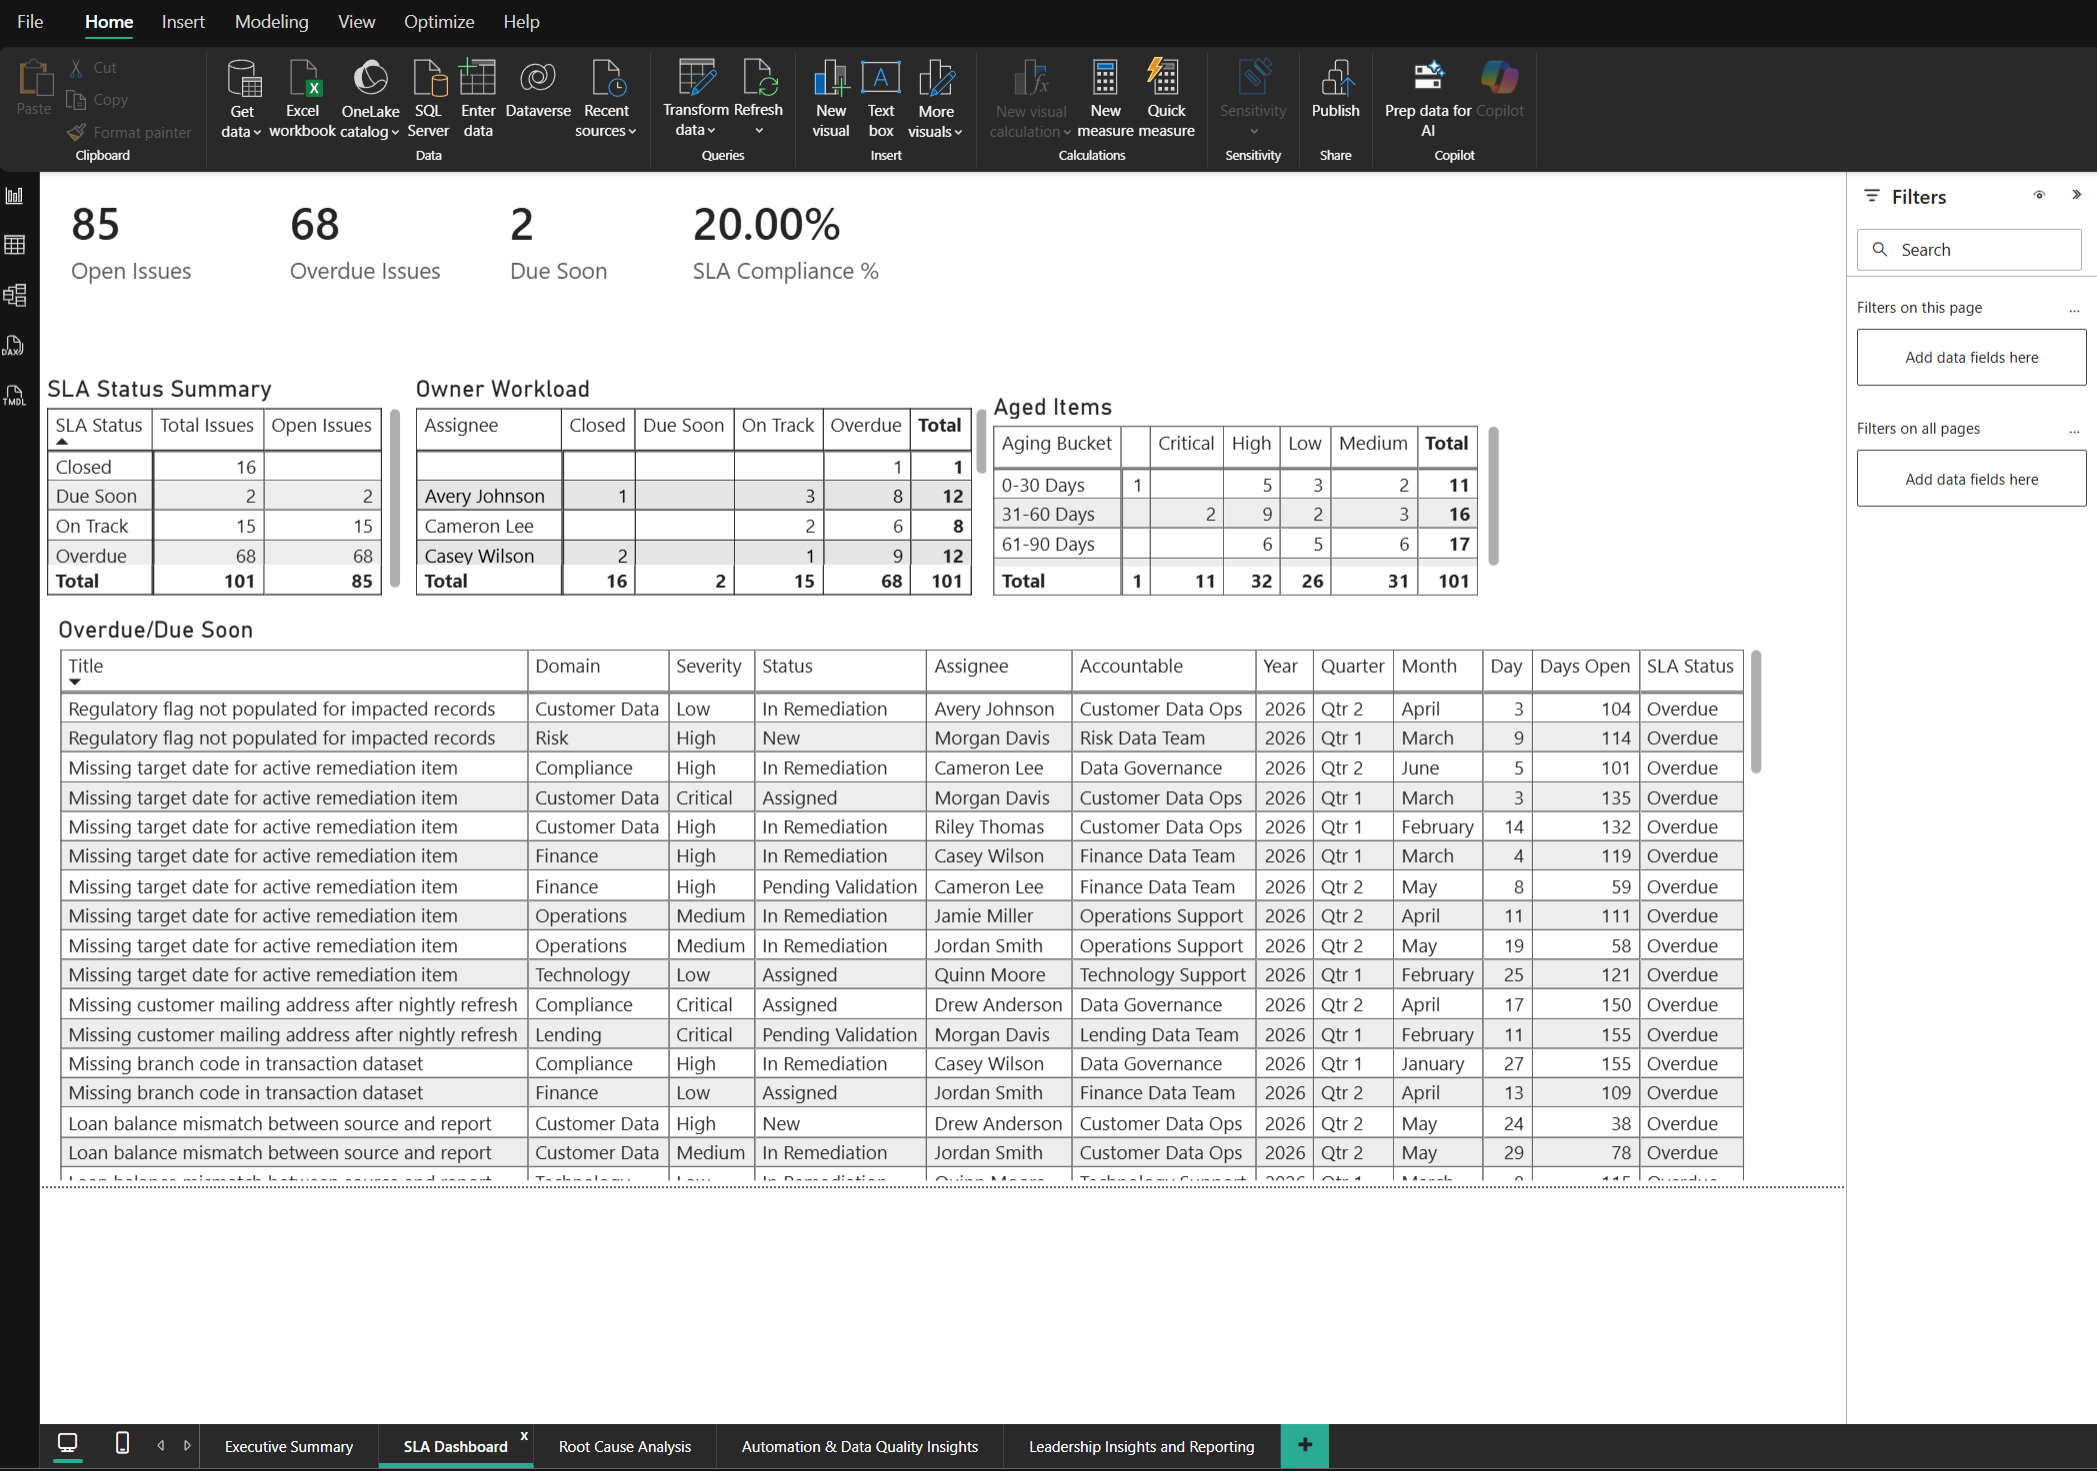

What the dashboard file says about the page in this screenshot:
{"tool":"powerbi","page":{"name":"SLA Dashboard","canvas":[1280,720],"ordinal":1},"visuals":[{"type":"cardVisual","fields":{"Data":["Data Problems.Open Issues"]},"box":[0,0,183.8,93.5],"z":0},{"type":"cardVisual","fields":{"Data":["Data Problems.Overdue Issues"]},"box":[155,0,156.3,93.5],"z":1000},{"type":"cardVisual","fields":{"Data":["Data Problems.Due Soon"]},"box":[311.3,0,134.1,93.5],"z":2000},{"type":"cardVisual","fields":{"Data":["Data Problems.SLA Compliance %"]},"box":[445.3,0,171.3,93.5],"z":3000},{"type":"pivotTable","title":"SLA Status Summary","fields":{"Rows":["Data Problems.SLA Status"],"Values":["Data Problems.Total Issues","Data Problems.Open Issues"]},"box":[0,143.9,260.9,161.5],"z":4000},{"type":"tableEx","title":"Overdue/Due Soon","fields":{"Values":["Data Problems.Title ","Data Problems.Domain","Data Problems.Severity","Data Problems.Status","Data Problems.Assignee","Data Problems.Accountable","Data Problems.Target Date.Variation.Date Hierarchy.Year","Data Problems.Target Date.Variation.Date Hierarchy.Quarter","Data Problems.Target Date.Variation.Date Hierarchy.Month","Data Problems.Target Date.Variation.Date Hierarchy.Day","Data Problems.Days Open","Data Problems.SLA Status"]},"box":[7.8,314.6,1217.7,405.5],"z":5000},{"type":"pivotTable","title":"Owner Workload","fields":{"Values":["Data Problems.Total Issues"],"Rows":["Data Problems.Assignee"],"Columns":["Data Problems.SLA Status"]},"box":[260.9,143.9,415.9,161.5],"z":6000},{"type":"pivotTable","title":"Aged Items","fields":{"Rows":["Data Problems.Aging Bucket"],"Columns":["Data Problems.Severity"],"Values":["Data Problems.Total Issues"]},"box":[670.3,155.6,368.8,149.8],"z":7000}]}

Visuals, with their boxes on the page's 1280x720 design canvas (x1, y1, x2, y2). These are canvas units, not pixel positions in the 2097x1471 screenshot, which may show the page scaled, cropped or inside an application window:
cardVisual - Data Problems.Open Issues: 0,0,184,94
cardVisual - Data Problems.Overdue Issues: 155,0,311,94
cardVisual - Data Problems.Due Soon: 311,0,445,94
cardVisual - Data Problems.SLA Compliance %: 445,0,617,94
"SLA Status Summary" pivotTable: 0,144,261,305
"Overdue/Due Soon" tableEx: 8,315,1226,720
"Owner Workload" pivotTable: 261,144,677,305
"Aged Items" pivotTable: 670,156,1039,305
